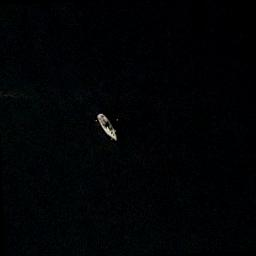boat: (94, 110, 118, 144)
